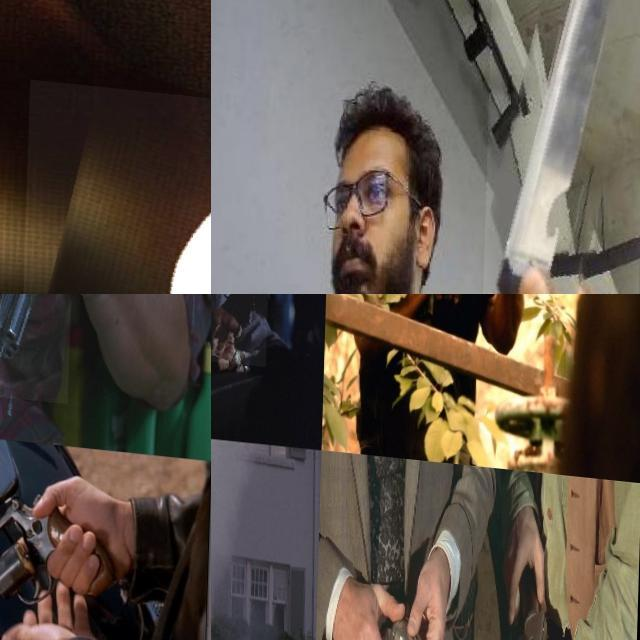-: (484, 0, 640, 294)
gun-knife-thesis - v11 Yolov5 augmented: (19, 78, 211, 294), (0, 477, 118, 609), (388, 294, 565, 345), (334, 569, 458, 640), (0, 294, 74, 411), (211, 294, 270, 361)
